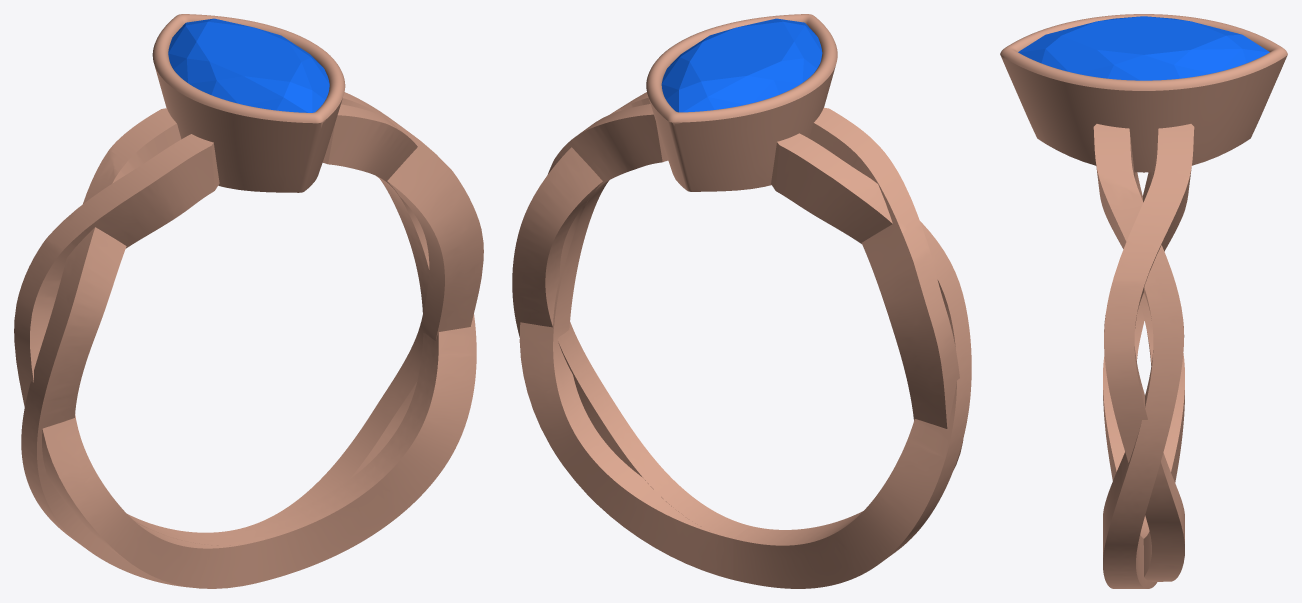
Rendered from bluesapphire-marquise-rosegold-bezelset-twist-nosidestones.glb.
3 renders of one model, left to right at view 1: azimuth 30°, elevation 25°; view 2: azimuth 150°, elevation 25°; view 3: azimuth 270°, elevation 25°, orthographic.
Parts seen in each view (by area): view 1: metal.002, stone; view 2: metal.002, stone; view 3: metal.002, stone.
Boxes of the visible parts, bbox=[...] form: metal.002: bbox=[14, 14, 483, 588]; stone: bbox=[168, 18, 329, 112]; metal.002: bbox=[512, 14, 971, 588]; stone: bbox=[661, 18, 822, 112]; metal.002: bbox=[1000, 14, 1287, 588]; stone: bbox=[1018, 16, 1269, 80].
Size of the model in its own units: 19.97 by 22.84 by 11.31.
